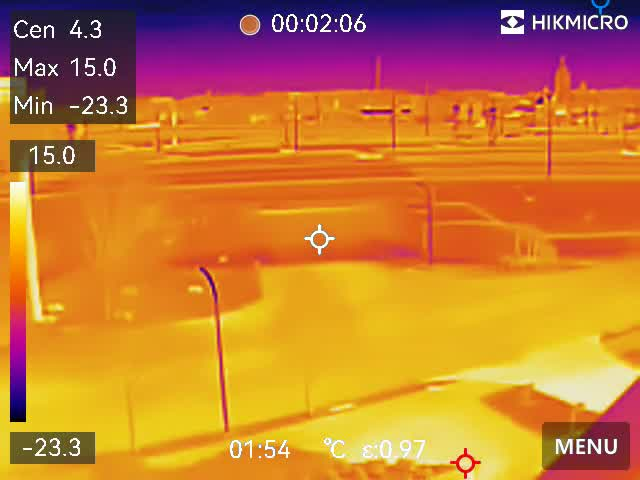vehicle: (353, 147, 389, 165), (278, 144, 298, 157)
